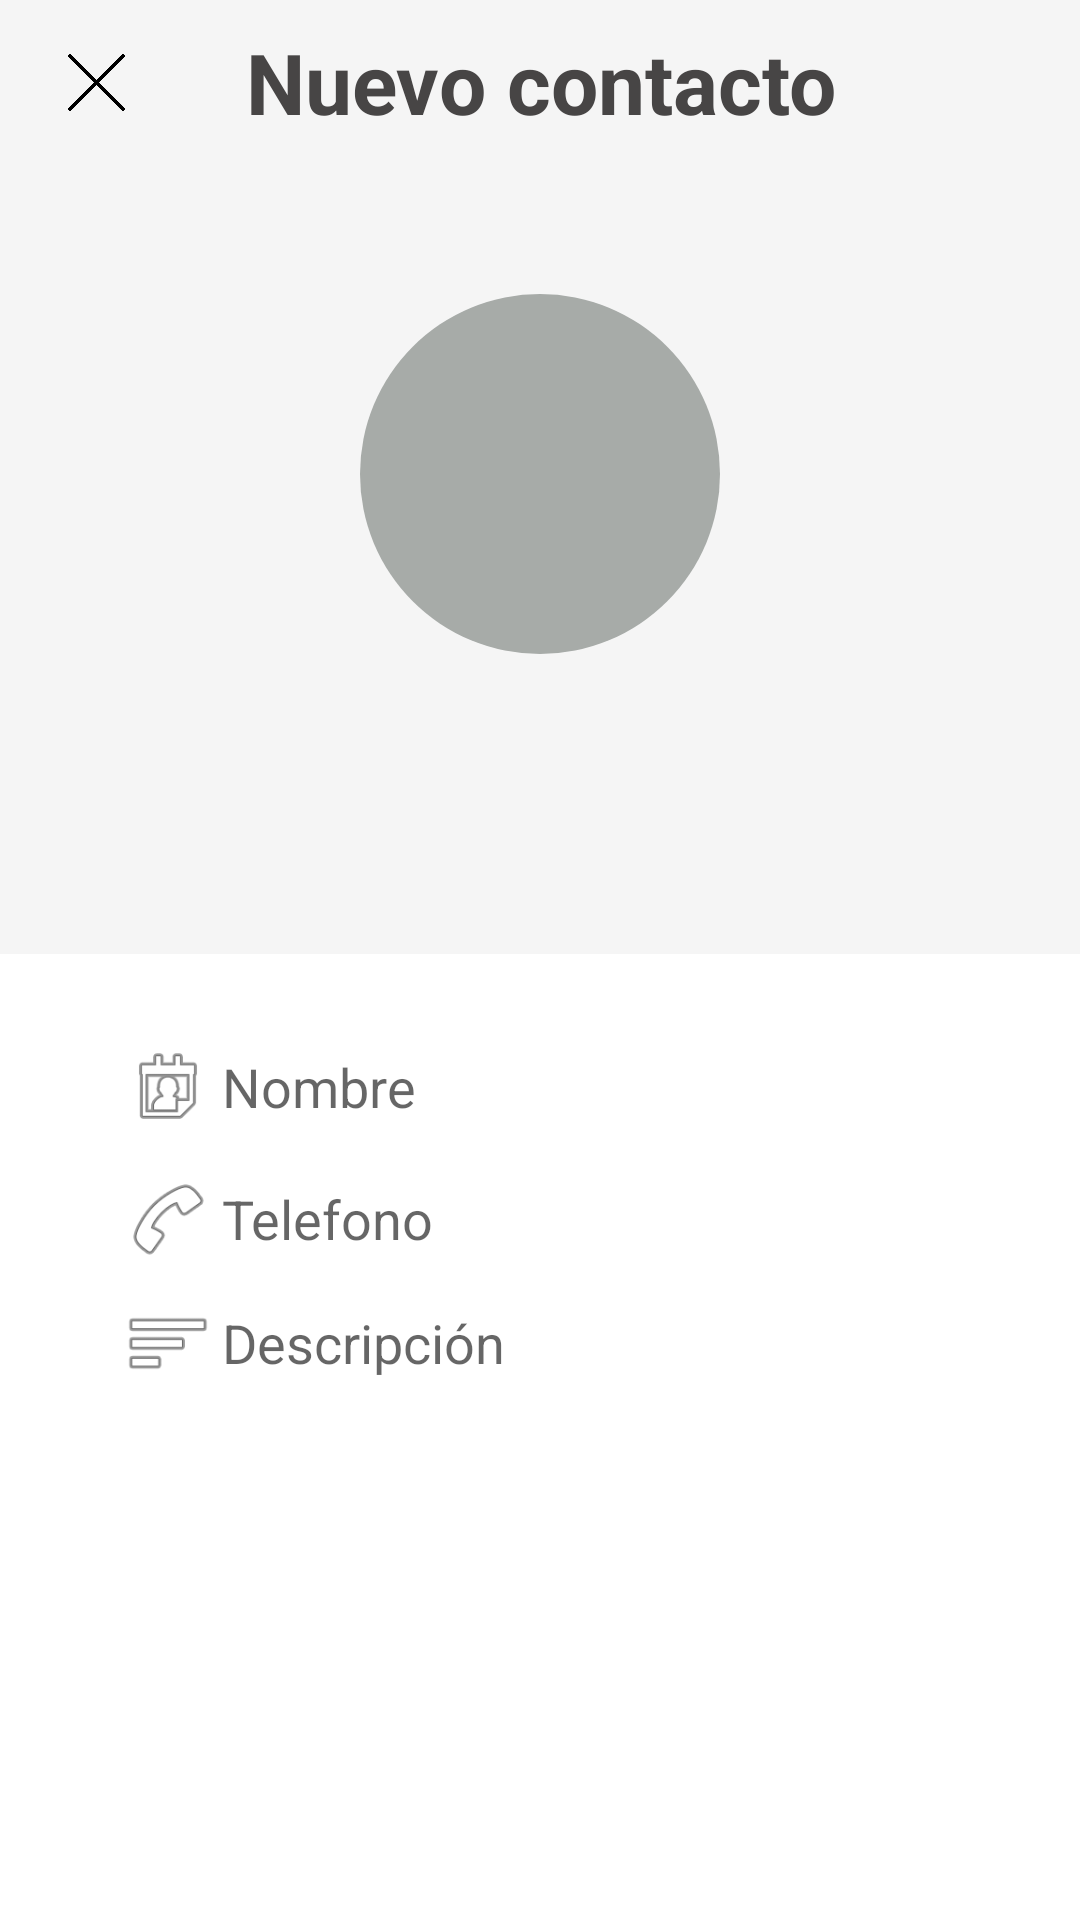

Icons on this 1080*1920 Android screen, each with the point to tap as point (x, y):
call: point (168, 1219)
sort by size: point (168, 1343)
